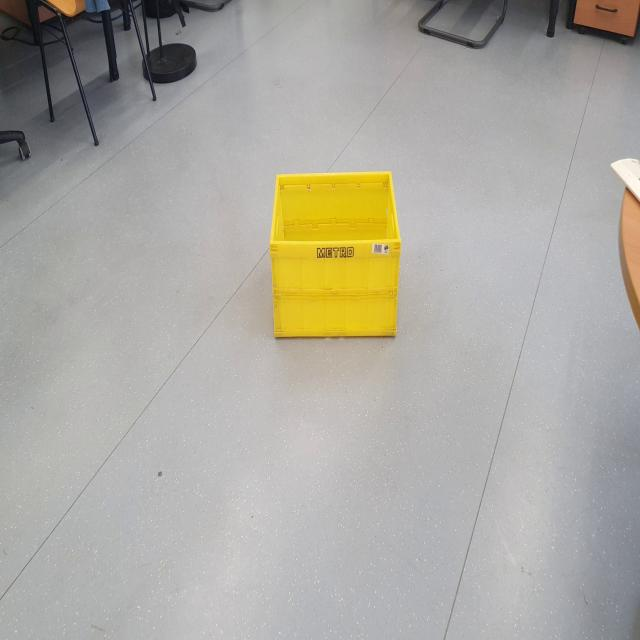box: (261, 165, 411, 360)
